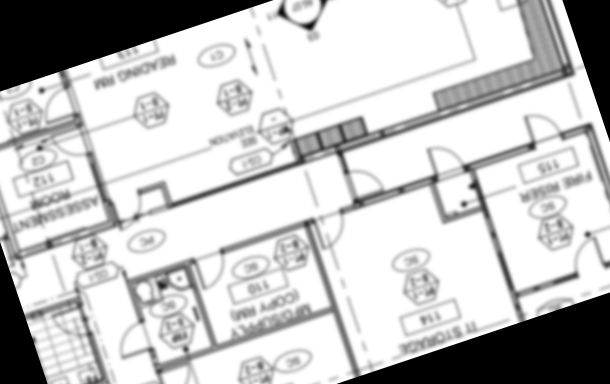door: (106, 185, 152, 234), (50, 302, 96, 347), (309, 208, 355, 252), (422, 136, 466, 179), (192, 249, 234, 292), (519, 106, 563, 147), (49, 125, 93, 166), (344, 163, 387, 204), (566, 236, 607, 277), (113, 322, 154, 362), (38, 87, 79, 126), (155, 362, 200, 384)
